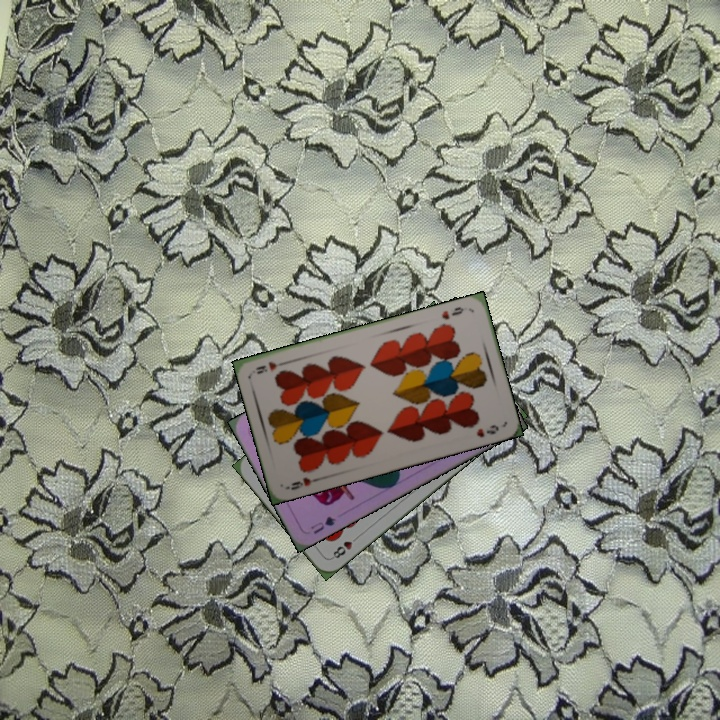GU: (307, 512, 338, 537)
H8: (327, 532, 362, 562)
H9: (283, 473, 323, 492), (438, 303, 466, 322)
